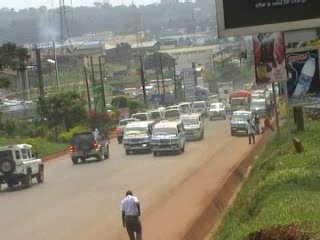Car: (0, 140, 45, 190), (67, 127, 111, 167)
